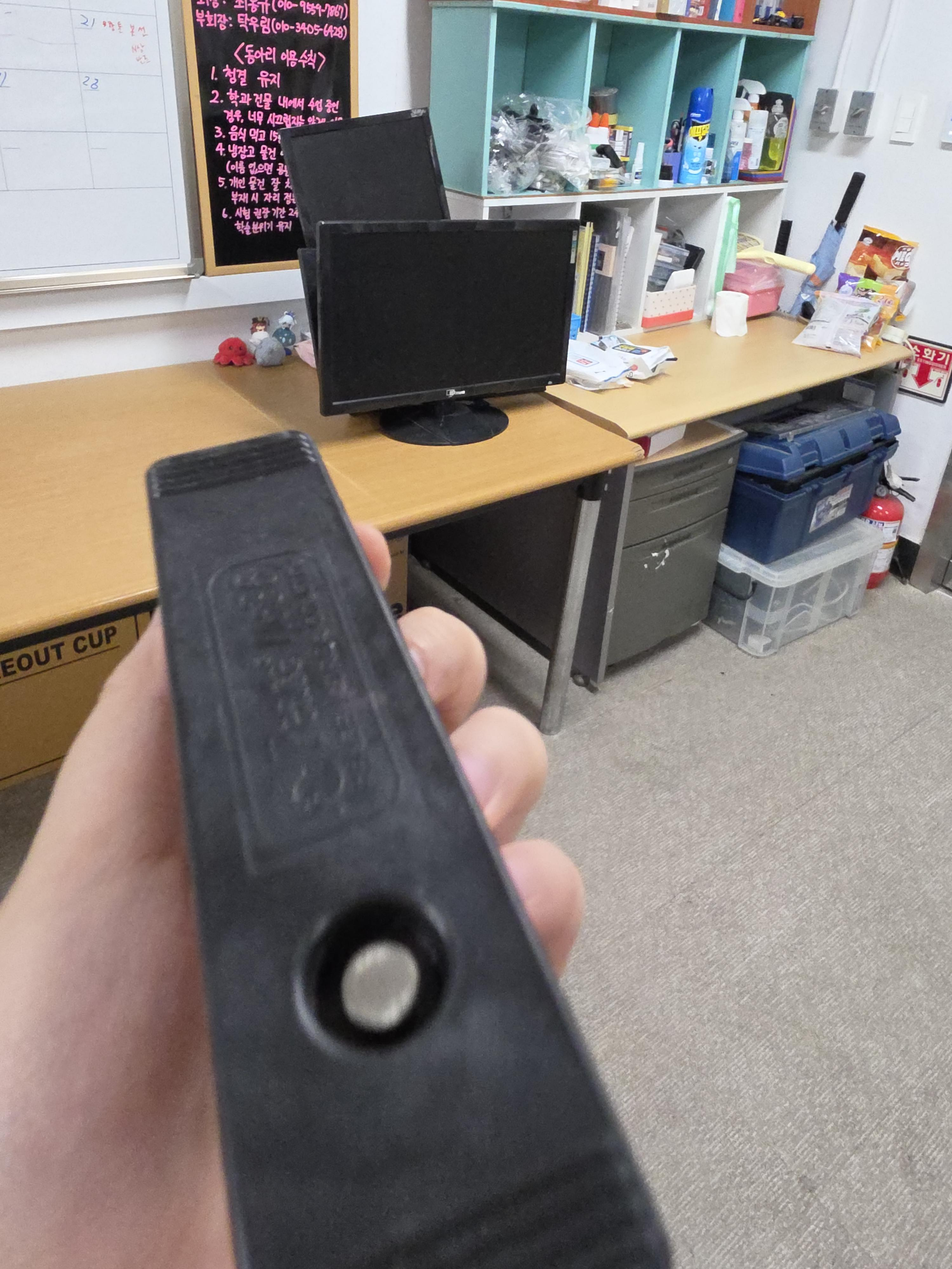stapler: (145, 430, 673, 1268)
tissue: (640, 268, 698, 328), (710, 290, 749, 338)
